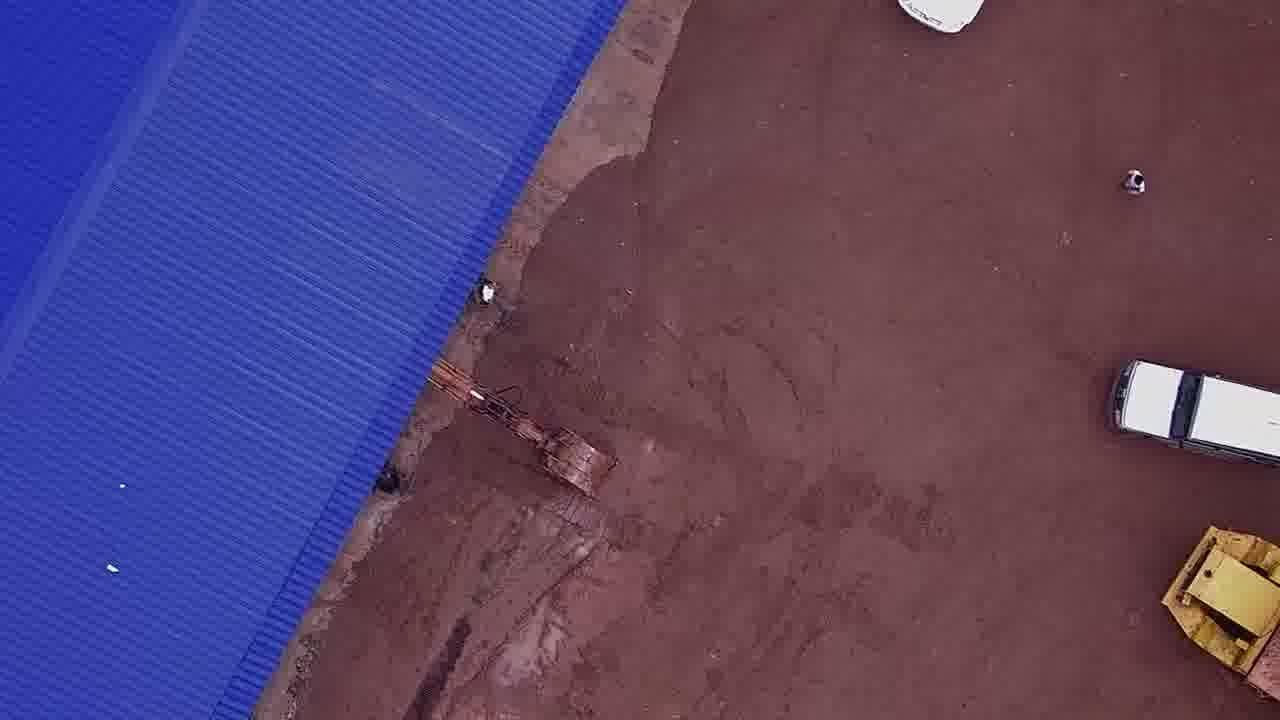LMV: (1104, 356, 1280, 469)
Person: (470, 271, 509, 310), (1119, 159, 1149, 204)
